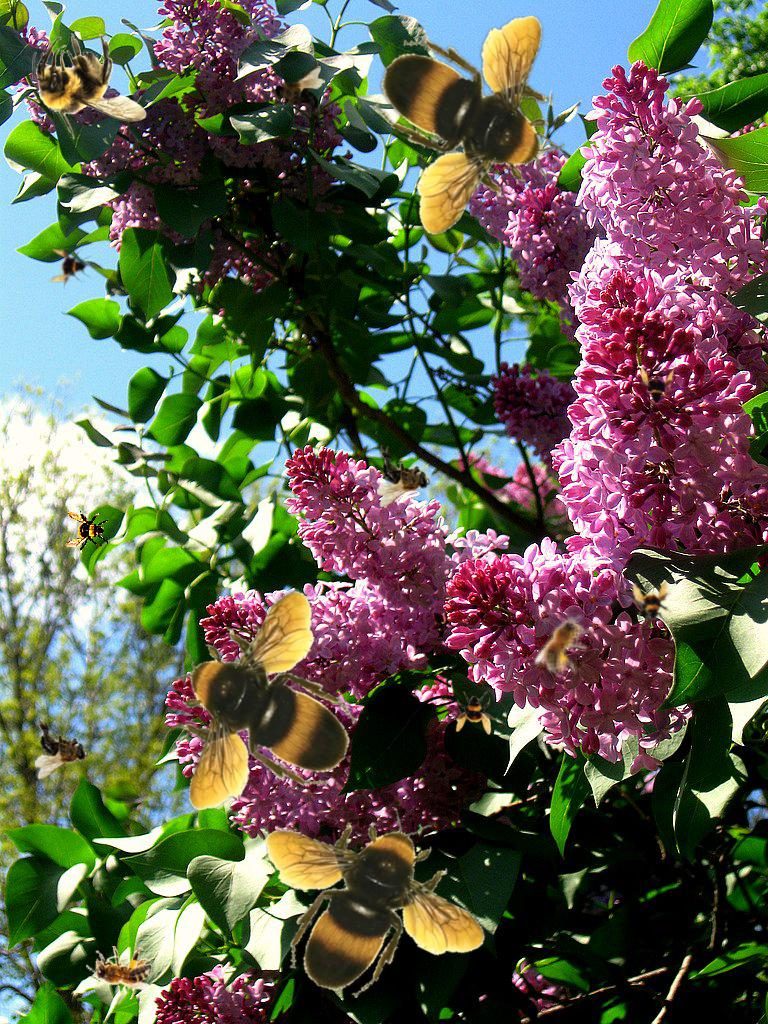Bee: (166, 590, 357, 810), (266, 807, 486, 998), (374, 16, 565, 236), (32, 33, 147, 140), (531, 604, 601, 683), (35, 717, 88, 779), (377, 445, 430, 507), (272, 66, 325, 128), (86, 946, 152, 991), (624, 577, 676, 629), (65, 510, 109, 554), (633, 365, 677, 409), (48, 246, 92, 290), (454, 691, 498, 735)
